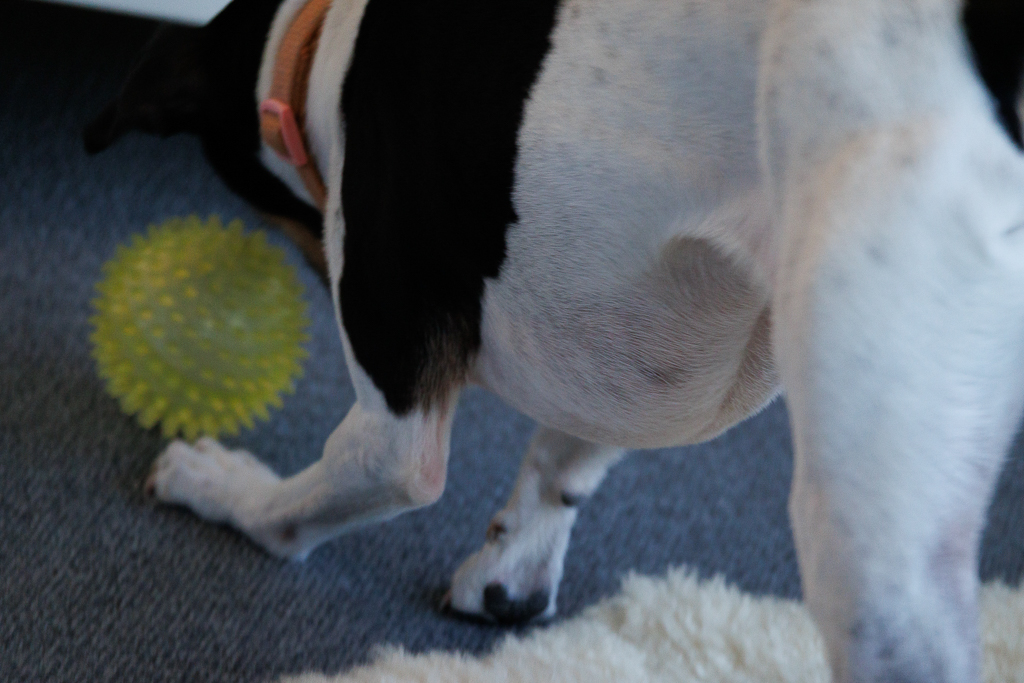Dog: (76, 0, 1024, 683)
